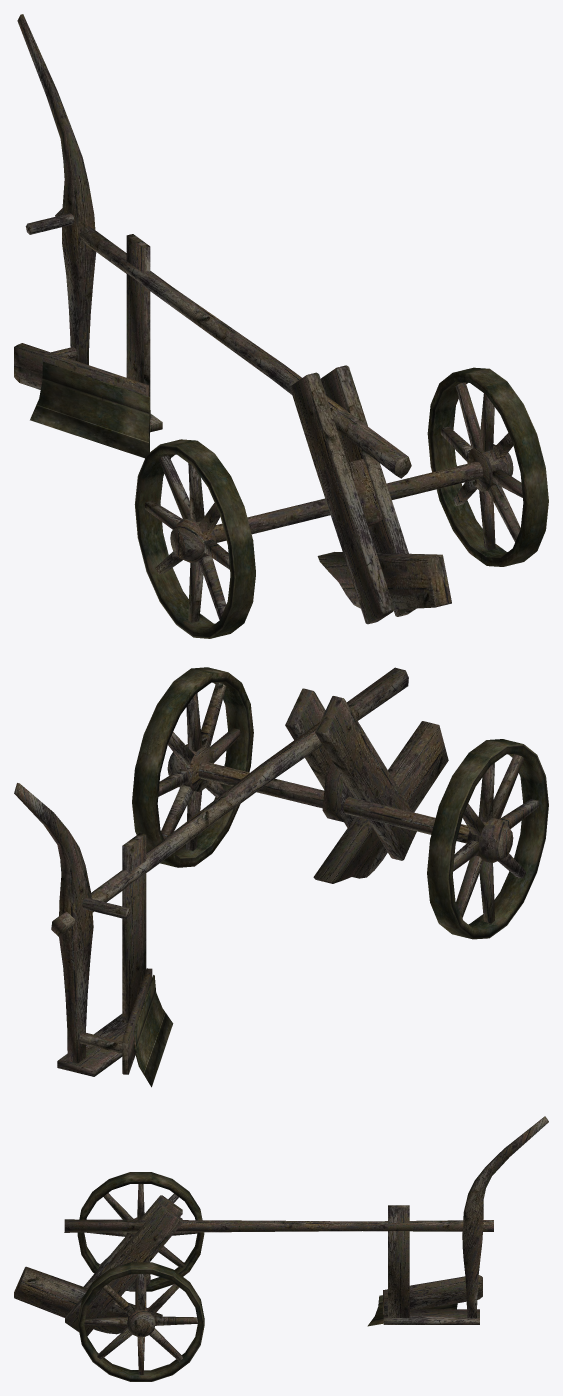
Rendered from KM_VOB_PLOUGH.glb.
The picture shows the model from 3 angles, top to bottom: view 1: azimuth 30°, elevation 25°; view 2: azimuth 150°, elevation 25°; view 3: azimuth 270°, elevation 25°; orthographic projection. The views are drawn at different scales.
Visible parts, largest first — view 1: Mesh; view 2: Mesh; view 3: Mesh.
Boxes of the visible parts, x1=… form: Mesh: x1=14, y1=14, x2=548, y2=638; Mesh: x1=14, y1=667, x2=548, y2=1087; Mesh: x1=14, y1=1116, x2=548, y2=1381.
Bounding box in the file's own units: 1.5 × 1.5 × 3.35.
Materials: 2 (2 with a texture image).
